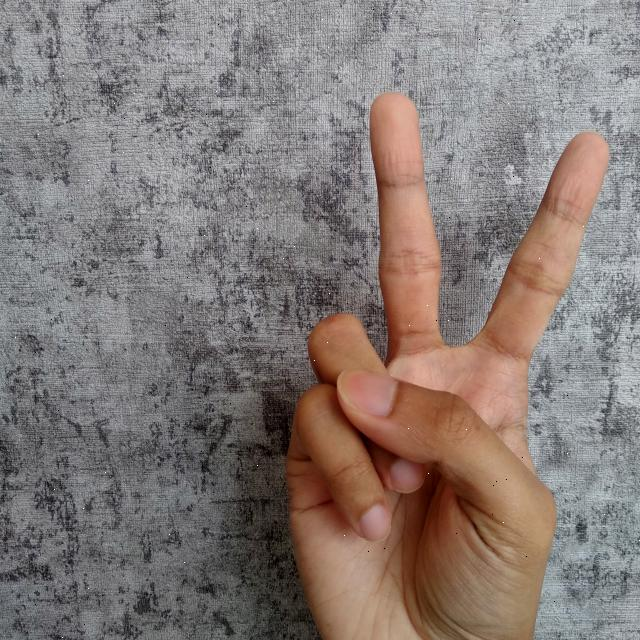V: (280, 85, 626, 640)
